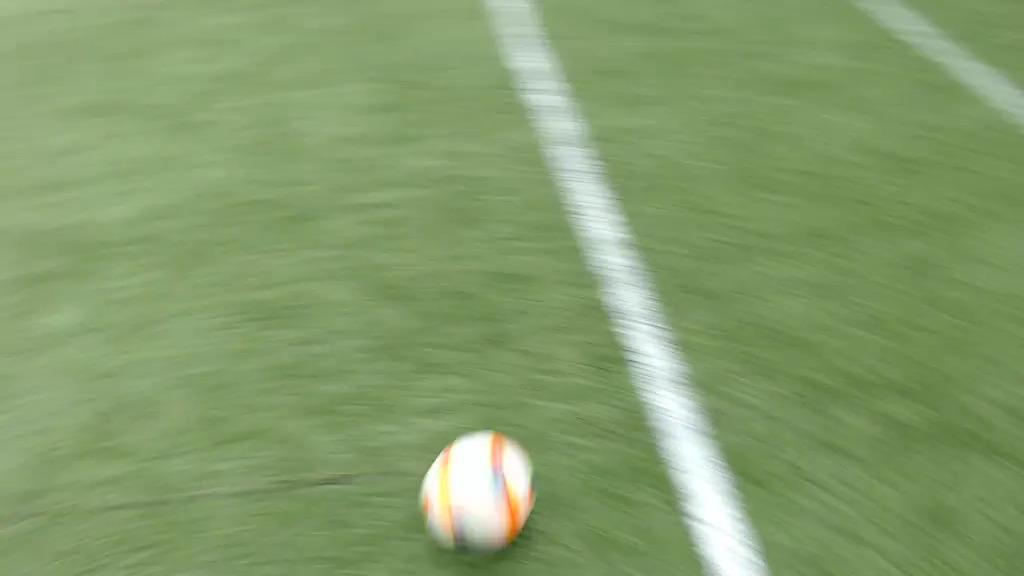ball: (418, 428, 538, 555)
